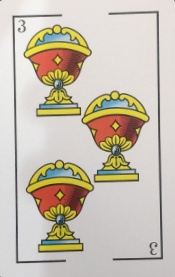3c: (11, 9, 161, 33)
